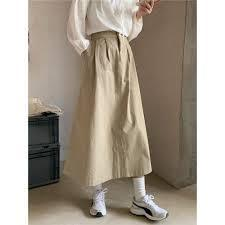skirt: (66, 33, 157, 191)
